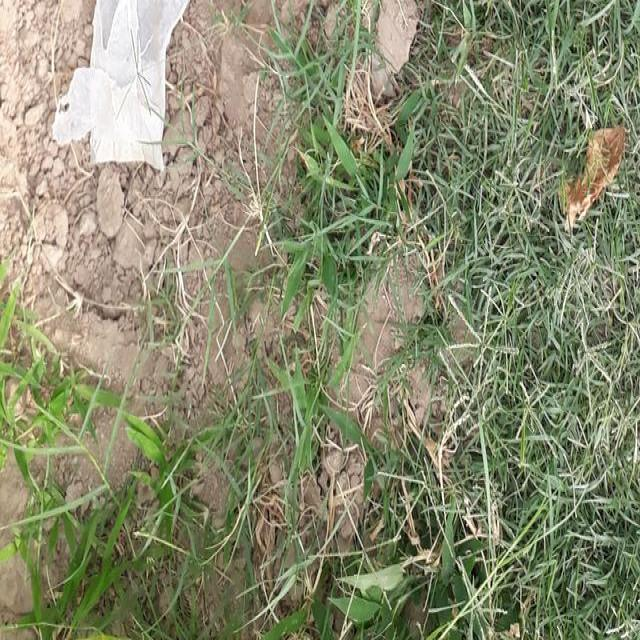weed: (0, 305, 201, 640), (274, 355, 480, 627), (493, 314, 640, 632), (444, 1, 551, 272), (286, 124, 410, 325), (563, 15, 640, 92)
